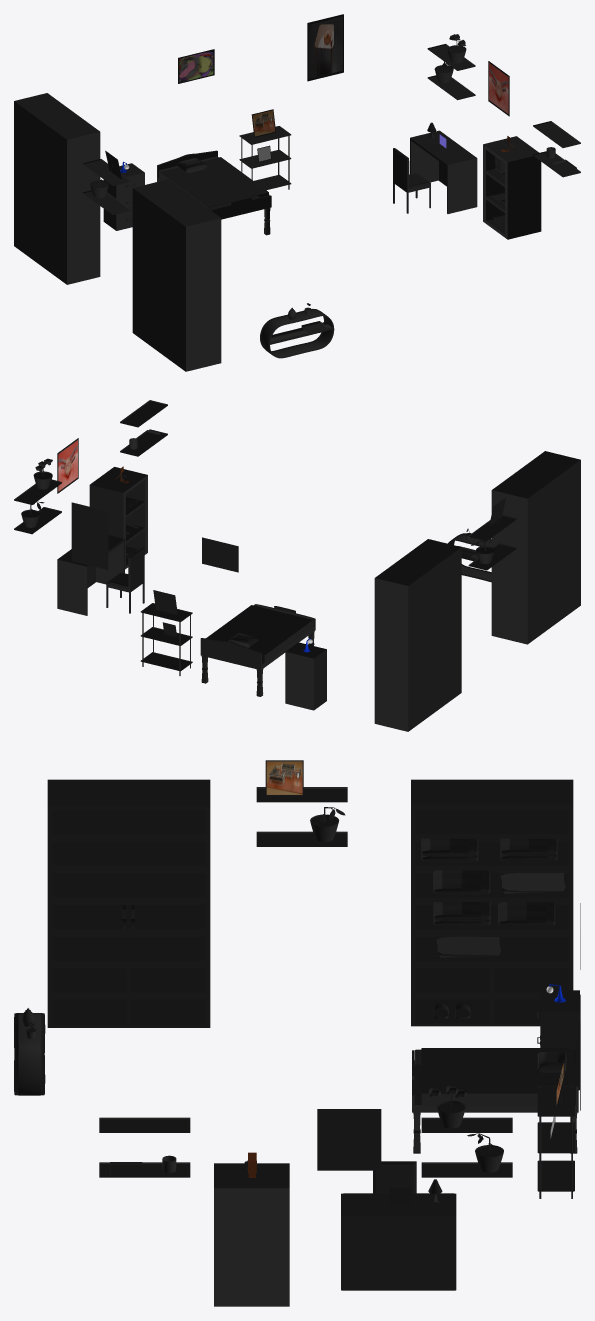
The model's file is bedr.obj.
The picture shows the model from 3 angles, top to bottom: view 1: azimuth 30°, elevation 25°; view 2: azimuth 150°, elevation 25°; view 3: azimuth 270°, elevation 25°; orthographic projection. The views are drawn at different scales.
Visible parts, largest first — view 1: obj24, obj23, obj41, obj34, obj3, obj10, obj79, obj65, obj2, obj42, obj77, obj82 (+4 smaller); view 2: obj23, obj24, obj41, obj3, obj34, obj42, obj64, obj2, obj79, obj77, obj82, obj62 (+4 smaller); view 3: obj24, obj23, obj34, obj41, obj3, obj79, obj66, obj77, obj82, obj10, obj42, obj2 (+9 smaller).
Part boxes in pixels (<box>): obj24: <box>132,179,221,371</box>; obj23: <box>14,93,100,284</box>; obj41: <box>483,136,541,239</box>; obj34: <box>410,130,477,213</box>; obj3: <box>159,157,268,207</box>; obj10: <box>260,309,334,358</box>; obj79: <box>427,44,580,177</box>; obj65: <box>308,16,342,78</box>; obj2: <box>157,150,271,235</box>; obj42: <box>103,163,144,230</box>; obj77: <box>239,126,291,190</box>; obj82: <box>83,159,130,214</box>; obj23: <box>374,539,461,731</box>; obj24: <box>491,451,580,644</box>; obj41: <box>89,467,147,569</box>; obj3: <box>206,605,313,663</box>; obj34: <box>57,535,124,615</box>; obj42: <box>285,642,326,710</box>; obj64: <box>71,502,108,569</box>; obj2: <box>200,604,315,696</box>; obj79: <box>14,400,167,534</box>; obj77: <box>140,603,192,671</box>; obj82: <box>468,514,516,570</box>; obj62: <box>202,537,238,572</box>; obj24: <box>47,779,210,1027</box>; obj23: <box>411,779,573,1026</box>; obj34: <box>341,1193,456,1290</box>; obj41: <box>214,1163,289,1306</box>; obj3: <box>421,1048,569,1106</box>; obj79: <box>99,1117,512,1177</box>; obj66: <box>317,1109,381,1170</box>; obj77: <box>537,1085,574,1191</box>; obj82: <box>256,787,347,846</box>; obj10: <box>14,1013,45,1095</box>; obj42: <box>540,990,579,1090</box>; obj2: <box>412,1042,578,1153</box>.
Size of the model in its own units: 10.98 by 4.01 by 8.47.
